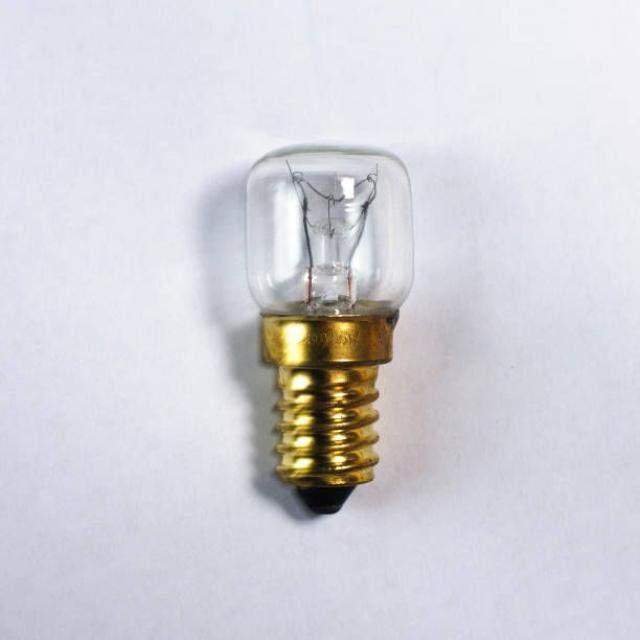electronic: (243, 141, 415, 515)
